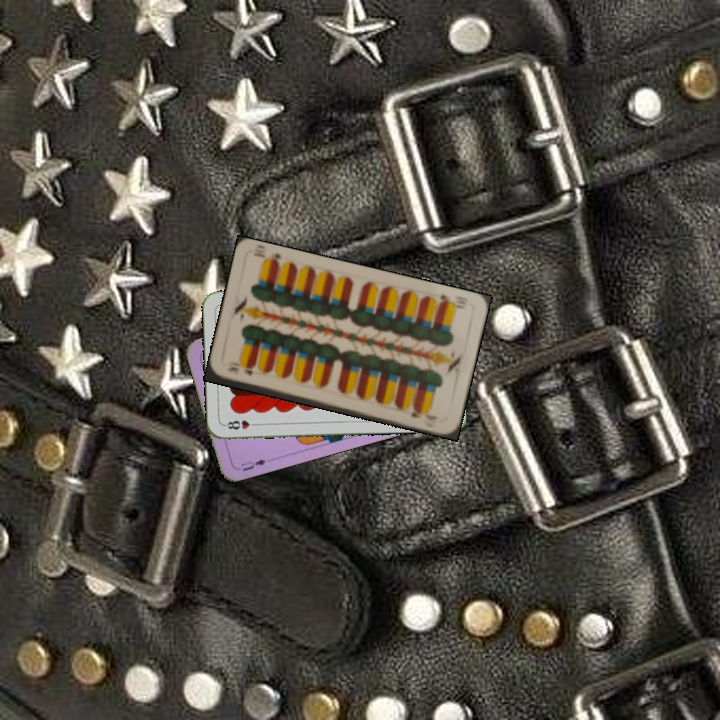E10: (435, 290, 467, 310), (223, 362, 255, 378)
EU: (237, 454, 273, 474)
H8: (221, 416, 262, 432)
